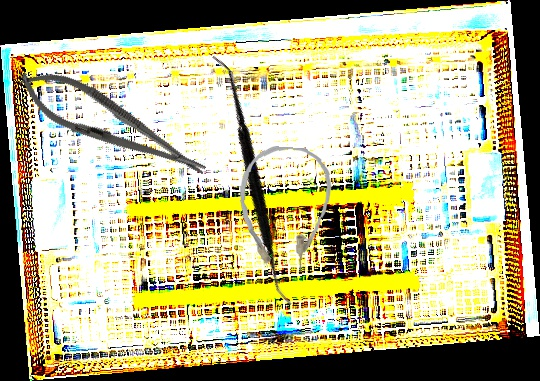Cannula: (233, 143, 335, 275)
Needle Holder: (9, 56, 216, 194)
Spatula Surgical: (125, 54, 379, 307)
